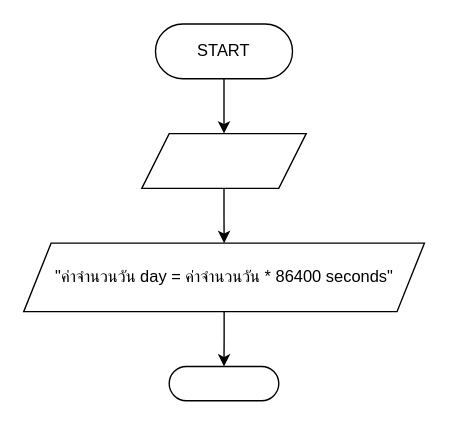
Image size: 449x425. Some labels were removed from this diagram. The shapes that lost their labels are listed below. From the top down, each one's centre as x and y in pixels, then its label:
the point at 223,160: "Input Day : "
the point at 223,383: END
